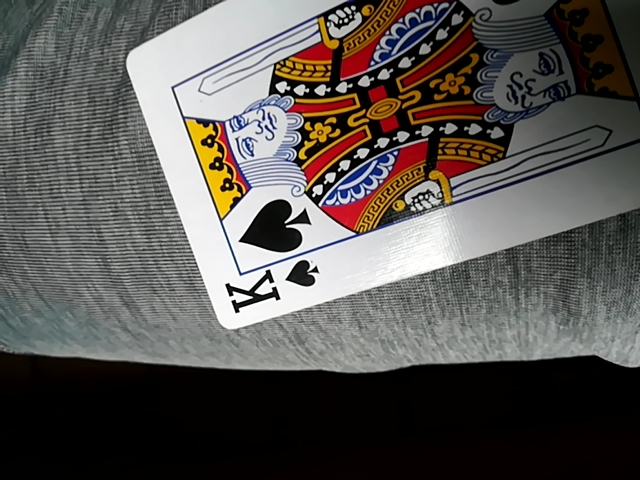ht k: (131, 2, 639, 338)
